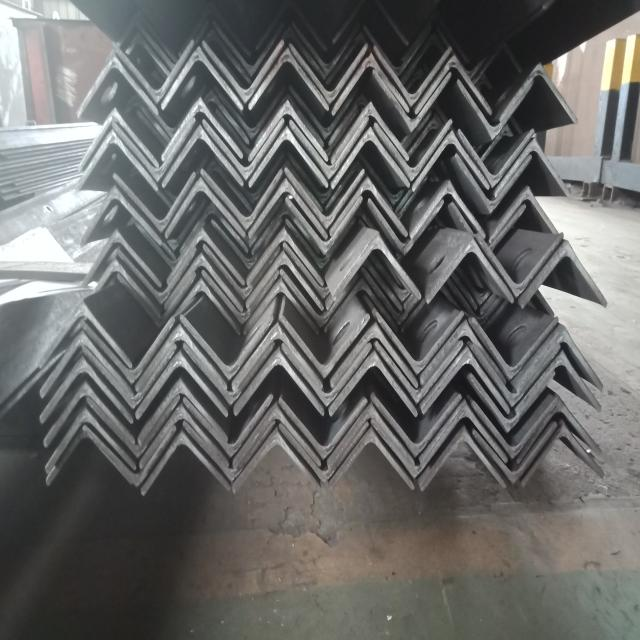metal-angles: (371, 409, 465, 480), (136, 349, 229, 420), (39, 299, 133, 368), (40, 330, 134, 399), (82, 316, 176, 385), (180, 314, 274, 381), (233, 347, 324, 416), (232, 322, 323, 391), (41, 356, 134, 423), (138, 377, 228, 446), (136, 324, 228, 391), (45, 381, 136, 448), (516, 394, 603, 464), (422, 347, 511, 415), (519, 241, 608, 309), (83, 344, 176, 409), (469, 342, 561, 407), (329, 350, 418, 417), (333, 231, 422, 298), (182, 342, 275, 406), (279, 313, 370, 378), (468, 316, 559, 381), (331, 322, 420, 388), (46, 409, 136, 474), (419, 399, 509, 464), (374, 340, 464, 405), (475, 231, 565, 296), (182, 393, 273, 457), (233, 428, 321, 494), (278, 421, 370, 484), (370, 394, 462, 457), (427, 239, 516, 304), (86, 396, 179, 458), (141, 431, 231, 495), (515, 327, 602, 393), (233, 403, 321, 468), (327, 403, 415, 468), (420, 320, 508, 385), (521, 419, 605, 487), (282, 343, 371, 407), (182, 420, 275, 481), (139, 406, 229, 469), (278, 397, 368, 460), (376, 310, 464, 374), (467, 372, 556, 435), (161, 44, 245, 110), (471, 397, 559, 460), (201, 38, 287, 102), (421, 427, 507, 491), (112, 118, 197, 182), (112, 170, 196, 233), (46, 426, 135, 485), (161, 97, 243, 161), (515, 352, 601, 413), (113, 39, 196, 102), (161, 125, 244, 188), (80, 185, 163, 248), (202, 117, 285, 180), (473, 422, 557, 484), (77, 55, 159, 118), (248, 48, 330, 111), (329, 429, 415, 489), (76, 130, 159, 192), (290, 116, 370, 180), (78, 107, 159, 170), (284, 166, 365, 229), (374, 119, 453, 183), (372, 70, 452, 133), (248, 126, 329, 188), (201, 169, 283, 230), (332, 52, 410, 116), (249, 100, 329, 162), (500, 61, 578, 124), (289, 42, 368, 104), (331, 101, 410, 163), (456, 78, 535, 140), (373, 45, 452, 107), (165, 177, 245, 238), (280, 269, 360, 330), (332, 127, 410, 189), (454, 153, 533, 214), (248, 178, 328, 238), (82, 228, 163, 287), (413, 131, 491, 192), (415, 54, 493, 115), (164, 252, 244, 311), (246, 250, 325, 309), (331, 176, 408, 236), (247, 226, 324, 285), (167, 227, 245, 285), (117, 272, 197, 328), (203, 243, 280, 301), (286, 197, 364, 254), (457, 128, 535, 185), (495, 137, 570, 196), (243, 277, 319, 335), (410, 180, 486, 238), (369, 197, 445, 255), (202, 269, 280, 324), (117, 248, 196, 302), (489, 185, 557, 244), (214, 22, 285, 78), (95, 259, 162, 318), (215, 85, 286, 140), (211, 218, 283, 270), (174, 280, 241, 334), (289, 86, 357, 139), (180, 203, 249, 255), (293, 22, 360, 75), (118, 20, 175, 67), (127, 33, 171, 75)
